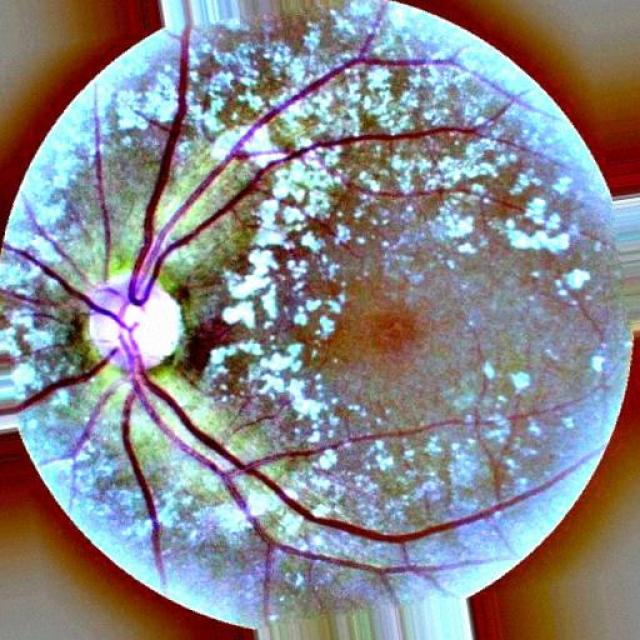Macula: (364, 314, 412, 366)
Nerves: (2, 3, 570, 588), (166, 159, 275, 244), (24, 201, 88, 282)
Optic Disk: (87, 277, 186, 373)
